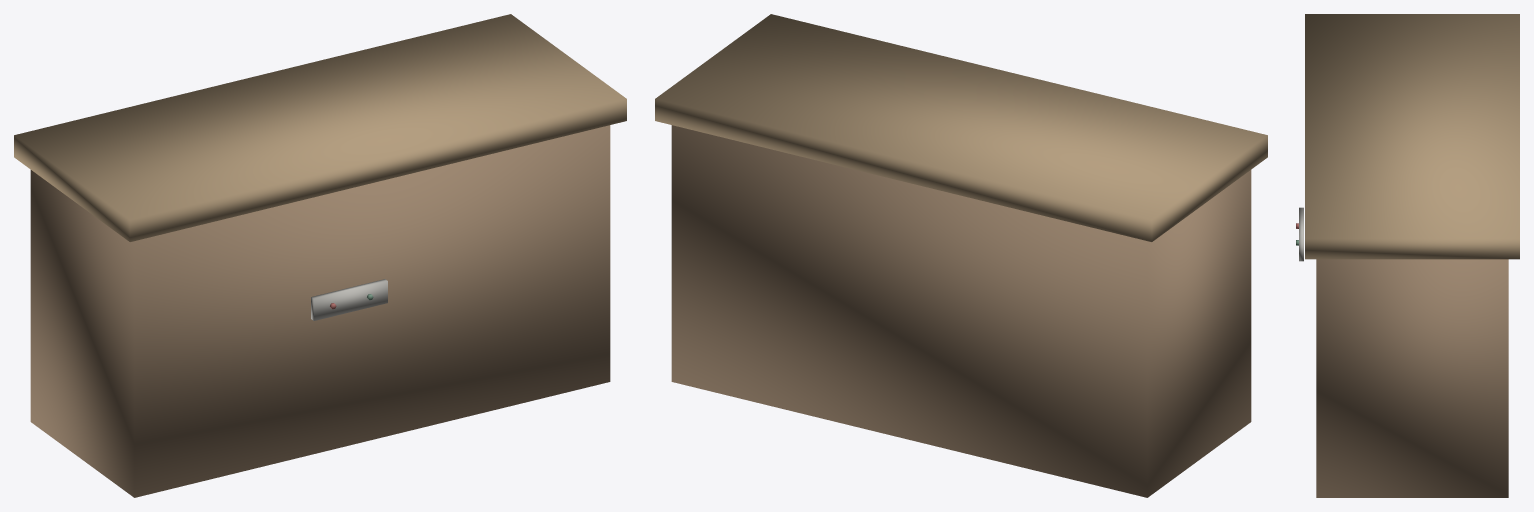
The model's file is host_stand.glb.
3 views of the same model, side by side, from view 1: azimuth 30°, elevation 25°; view 2: azimuth 150°, elevation 25°; view 3: azimuth 270°, elevation 25° (orthographic). The views are drawn at different scales.
Parts seen in each view (by area): view 1: world; view 2: world; view 3: world.
Part boxes in pixels (x1,y1,x2,y2): world: [14, 14, 626, 497]; world: [655, 14, 1267, 497]; world: [1296, 14, 1519, 497].
Size of the model in its own units: 1.88 by 1.03 by 0.791.
